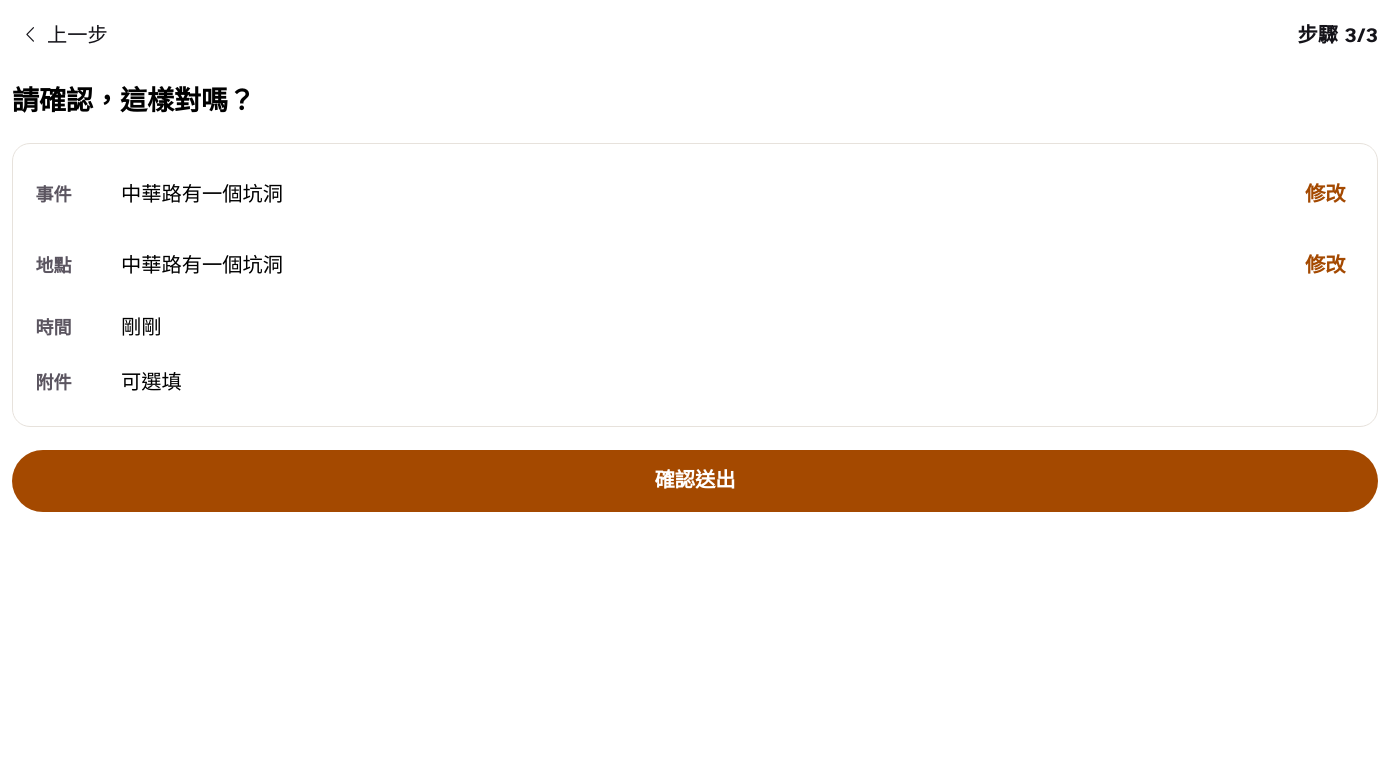
ConfirmStep（P3 摘要確認） › 送出失敗顯示錯誤並保留草稿，可重試
Click the button with class "confirm__submit" at (695, 481), box [12,450,1378,512]
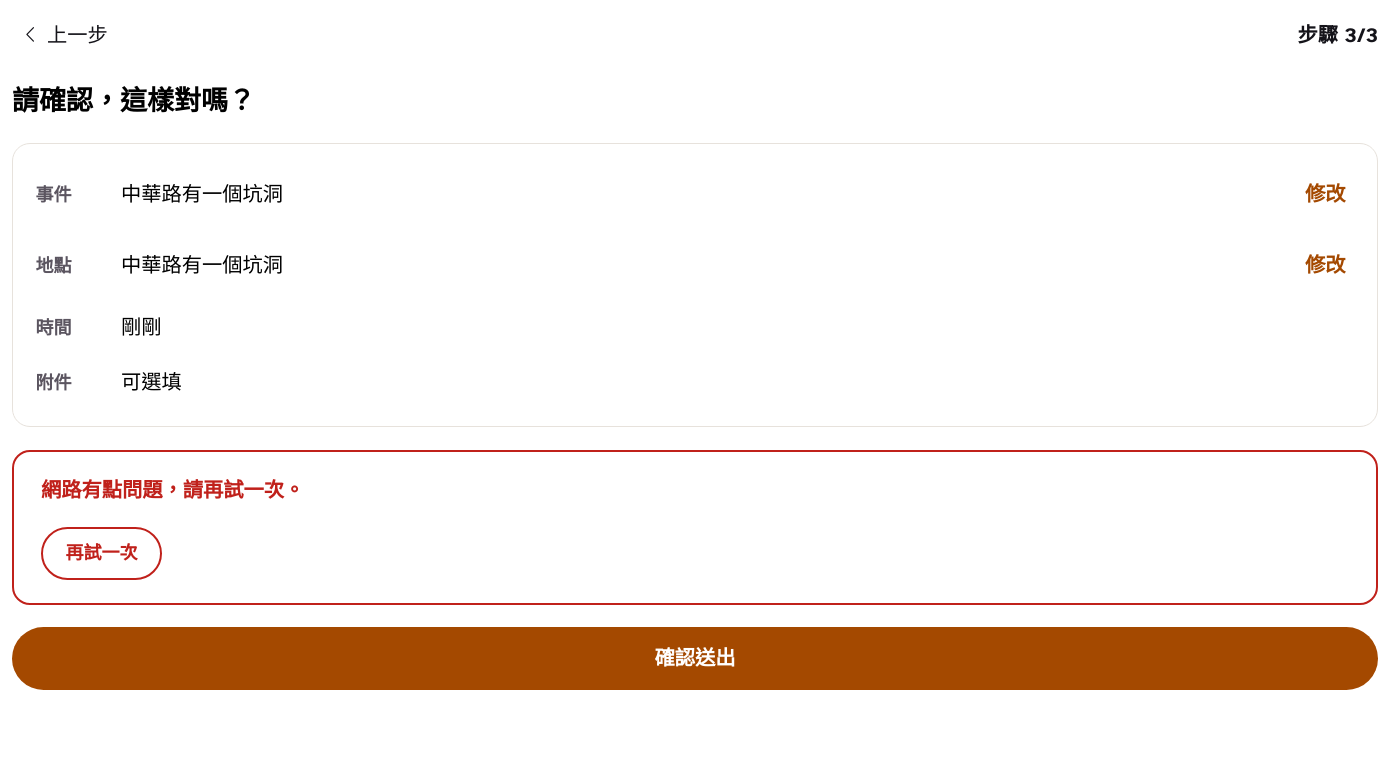
Expected: the text "中華路有一個坑洞" next to "事件" is shown, [121,182,283,207]
Now the message "網路有點問題，請再試一次。 再試一次" is shown, box [12,450,1378,605]
